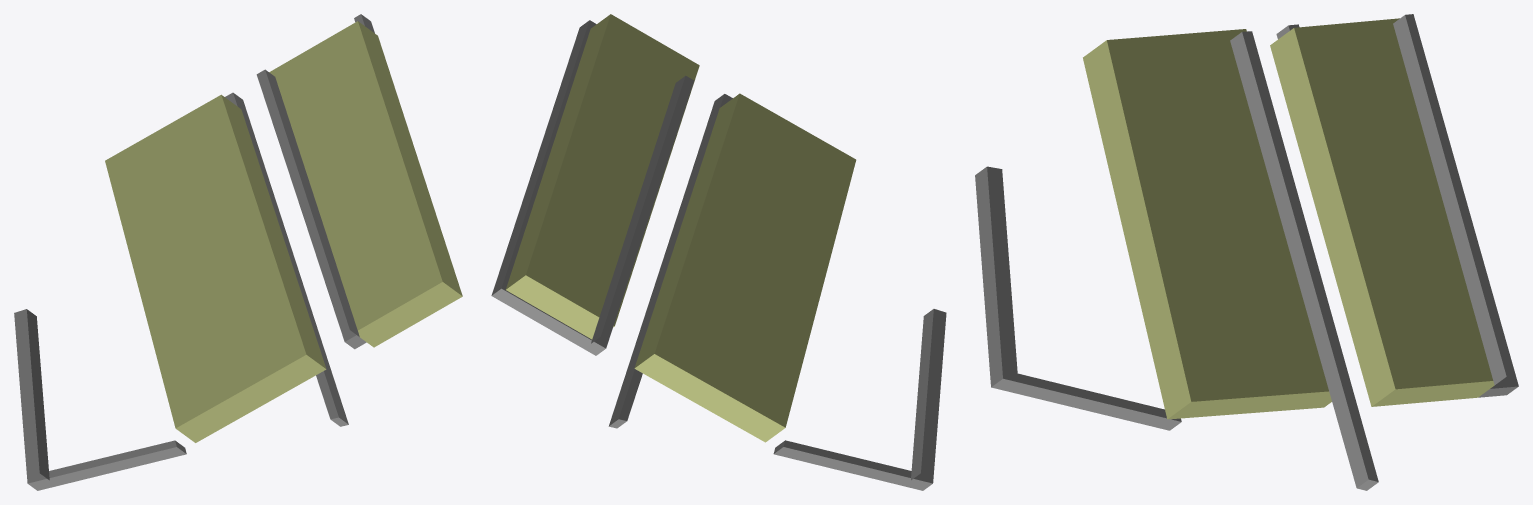
3 views of the same model, side by side, from view 1: azimuth 30°, elevation 25°; view 2: azimuth 150°, elevation 25°; view 3: azimuth 330°, elevation 25° (orthographic). The views are drawn at different scales.
Visible parts, largest first — view 1: 0_2_0_1_1_1_2_3; view 2: 0_2_0_1_1_1_2_3; view 3: 0_2_0_1_1_1_2_3.
Boxes of the visible parts, x1=… form: 0_2_0_1_1_1_2_3: x1=14, y1=14, x2=462, y2=490; 0_2_0_1_1_1_2_3: x1=491, y1=14, x2=946, y2=490; 0_2_0_1_1_1_2_3: x1=975, y1=14, x2=1518, y2=490.
Bounding box in the file's own units: 75.75 × 65 × 7.17.
